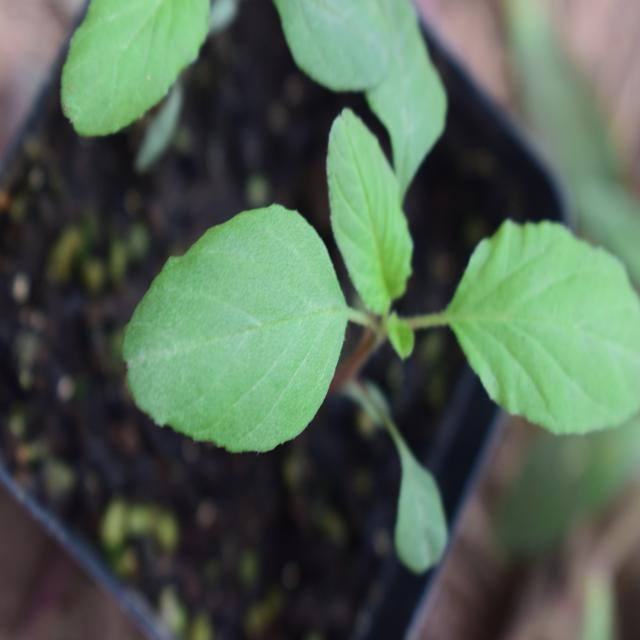pigweed: (116, 82, 592, 474)
